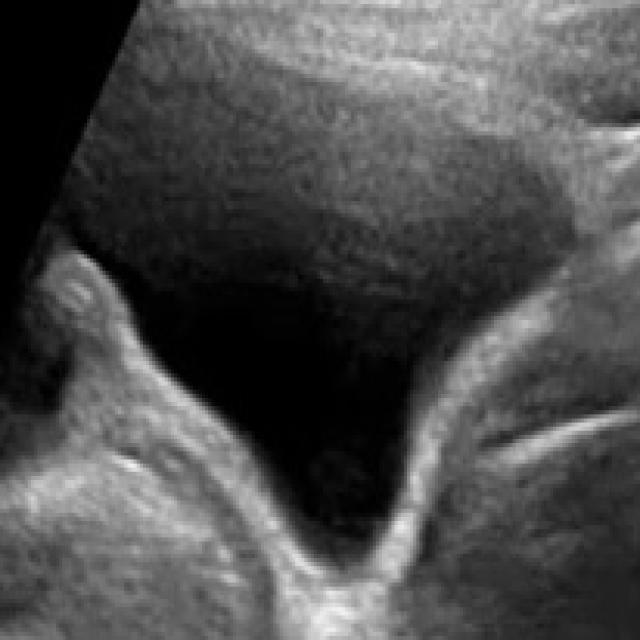bladder: (21, 2, 596, 615)
